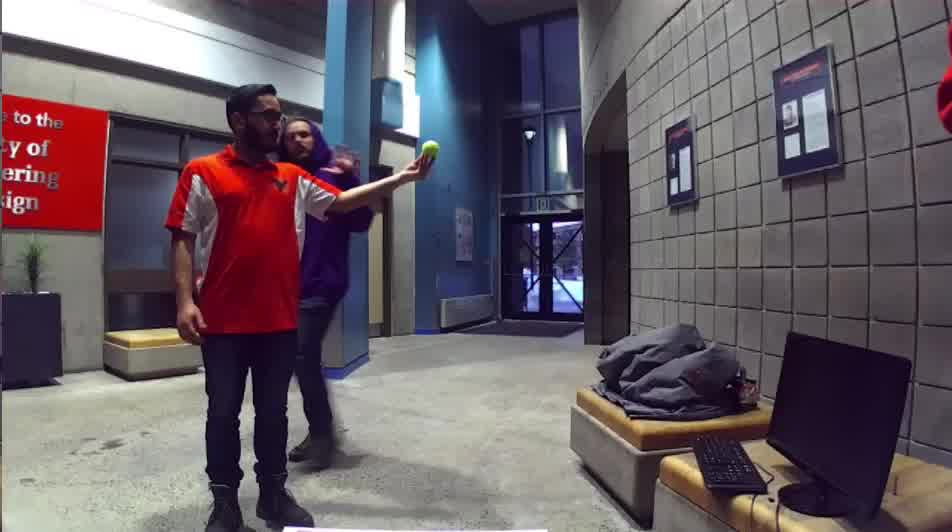tennis_ball: (420, 138, 442, 158)
